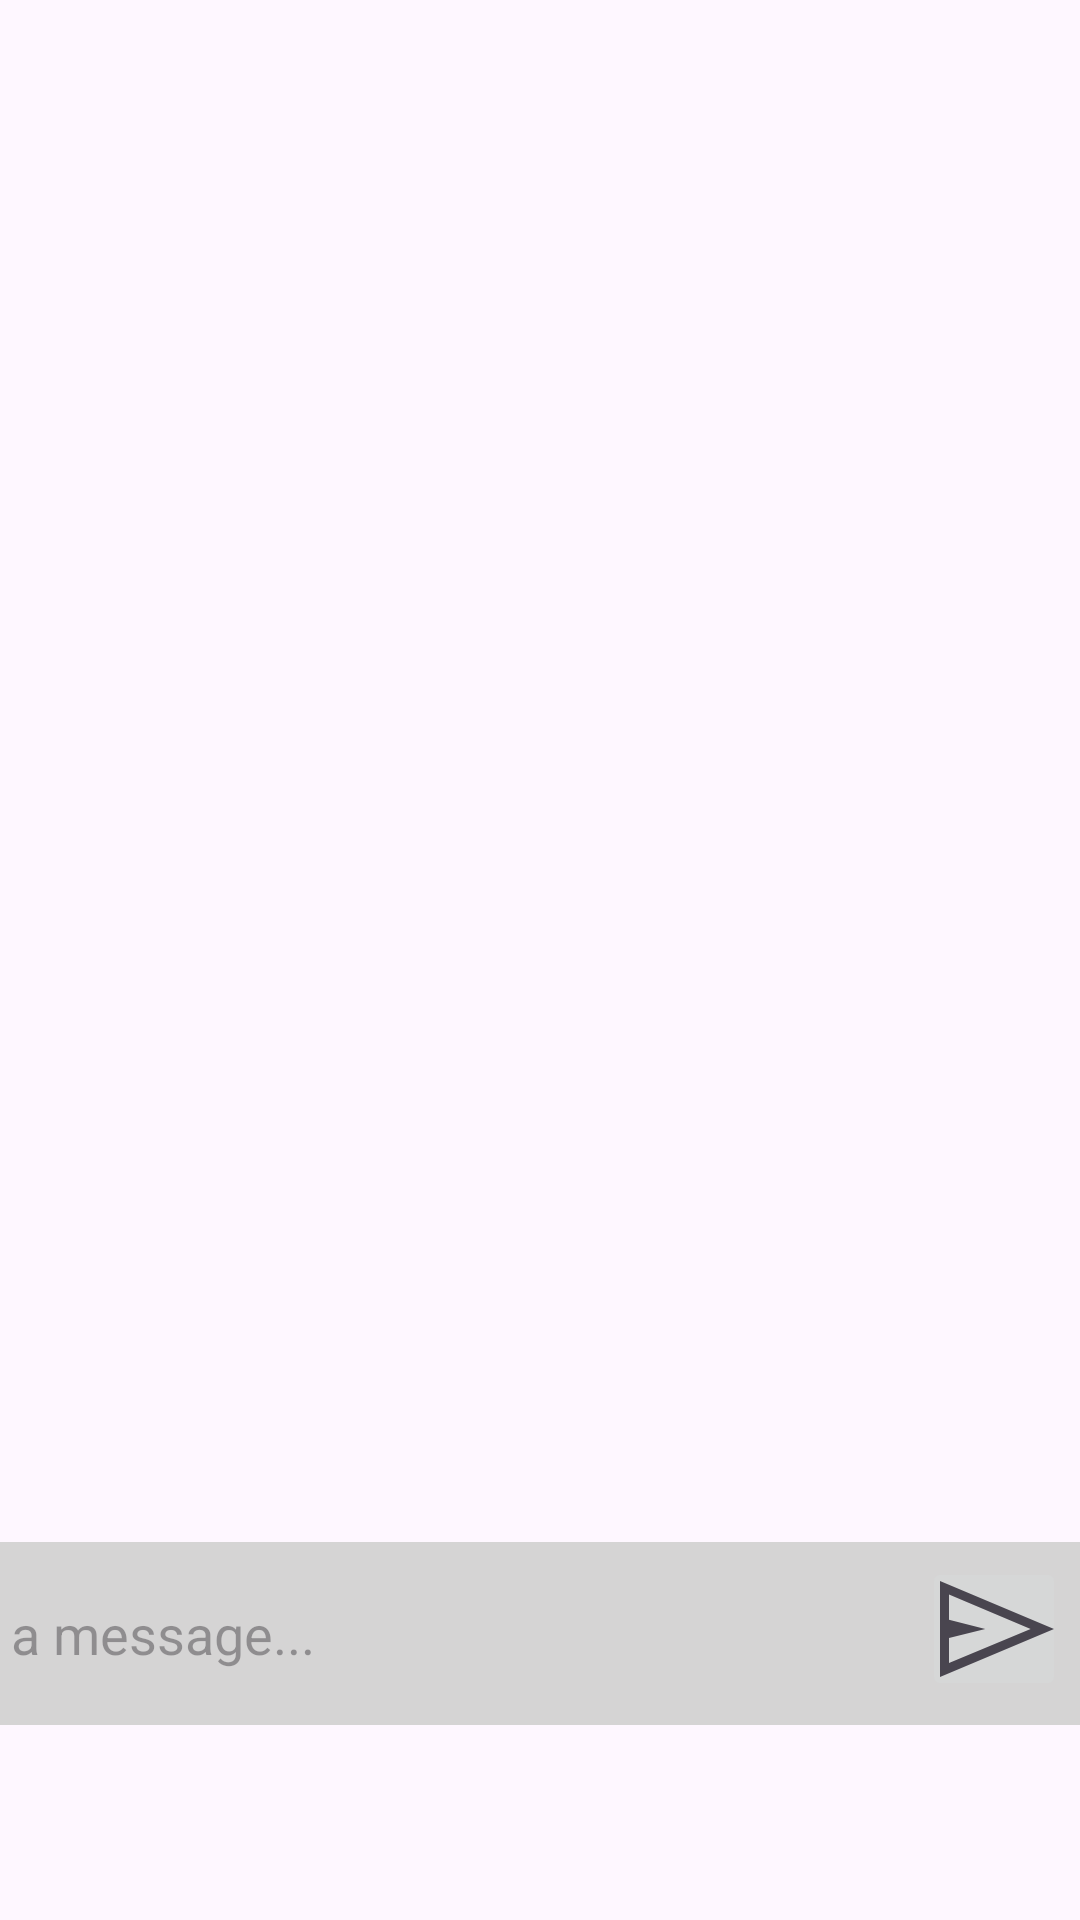

Locate icon controls on the screen. Image size 1080px x 1920px, boxes as (x1=x1, y1=y1, x2=x2, y2=y2).
sent: (x1=940, y1=1581, x2=1054, y2=1677)
